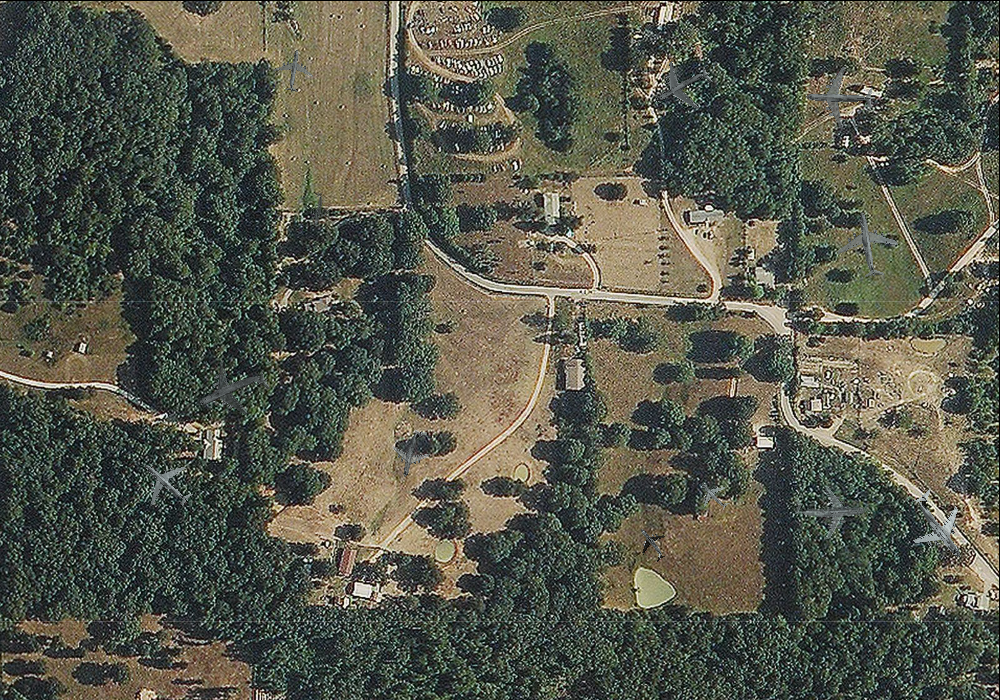plane: (891, 476, 988, 575), (184, 344, 280, 438), (641, 46, 723, 127), (128, 445, 205, 521), (831, 206, 905, 282), (792, 474, 868, 543), (804, 64, 874, 129), (384, 424, 440, 483), (627, 519, 676, 569), (690, 471, 738, 519), (271, 46, 316, 94), (298, 189, 335, 228)
